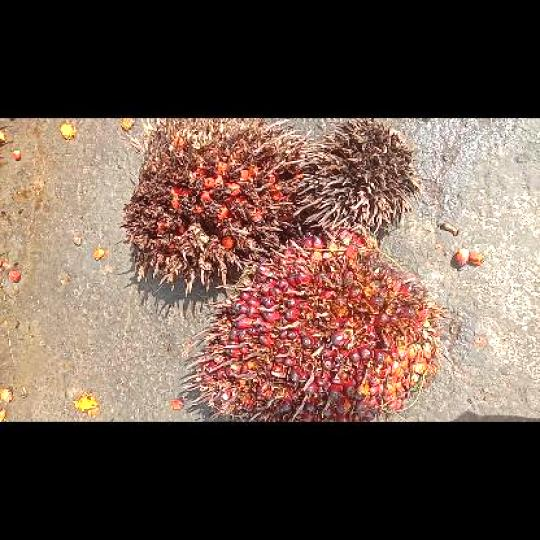masak: (181, 228, 450, 421)
terlalu masak: (112, 118, 312, 293)
